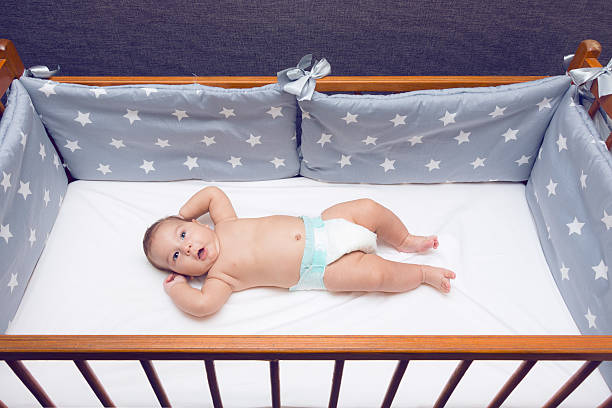baby: (143, 187, 454, 315)
crib: (0, 335, 611, 406)
